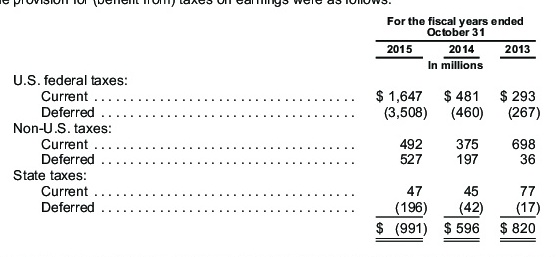table: (0, 0, 556, 257)
